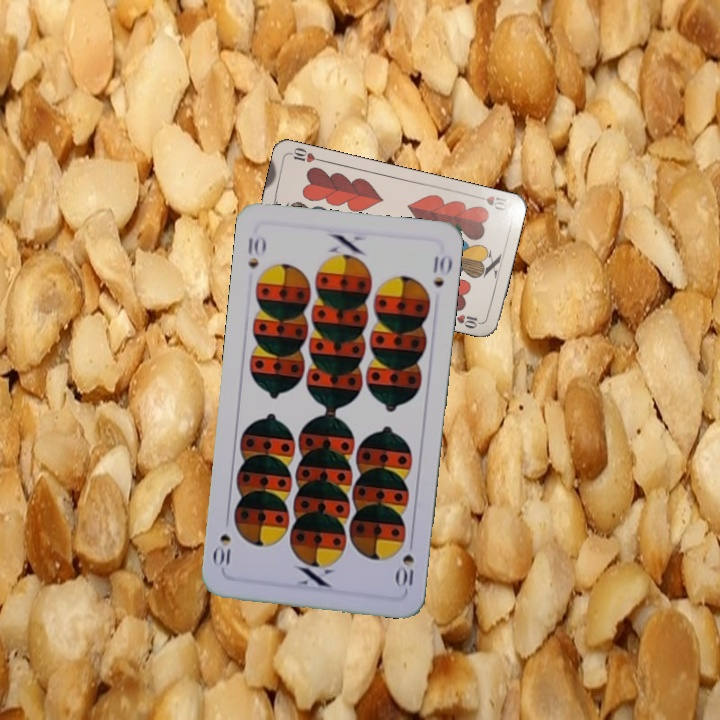H10: (471, 191, 512, 213)
S10: (393, 550, 416, 590), (244, 233, 268, 271)
